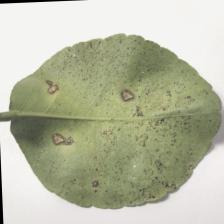canker: (91, 62, 200, 174)
